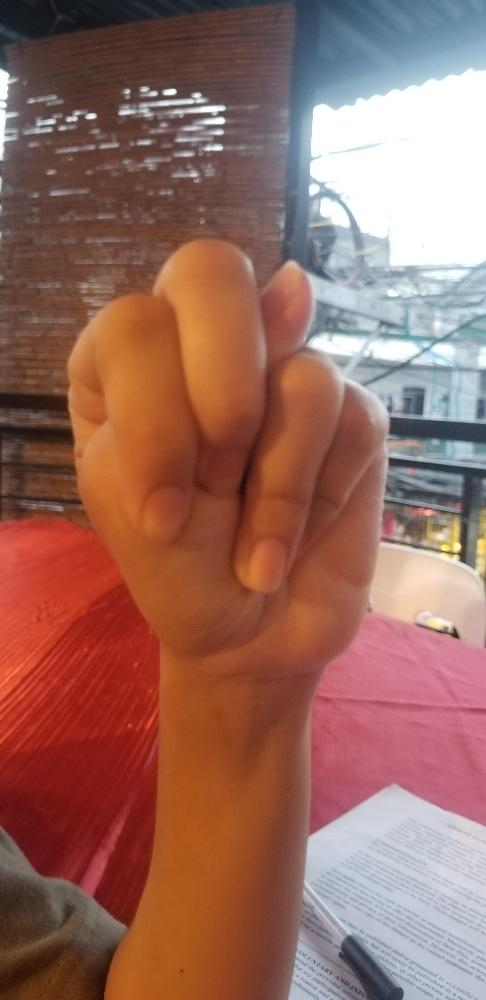n: (67, 235, 390, 661)
